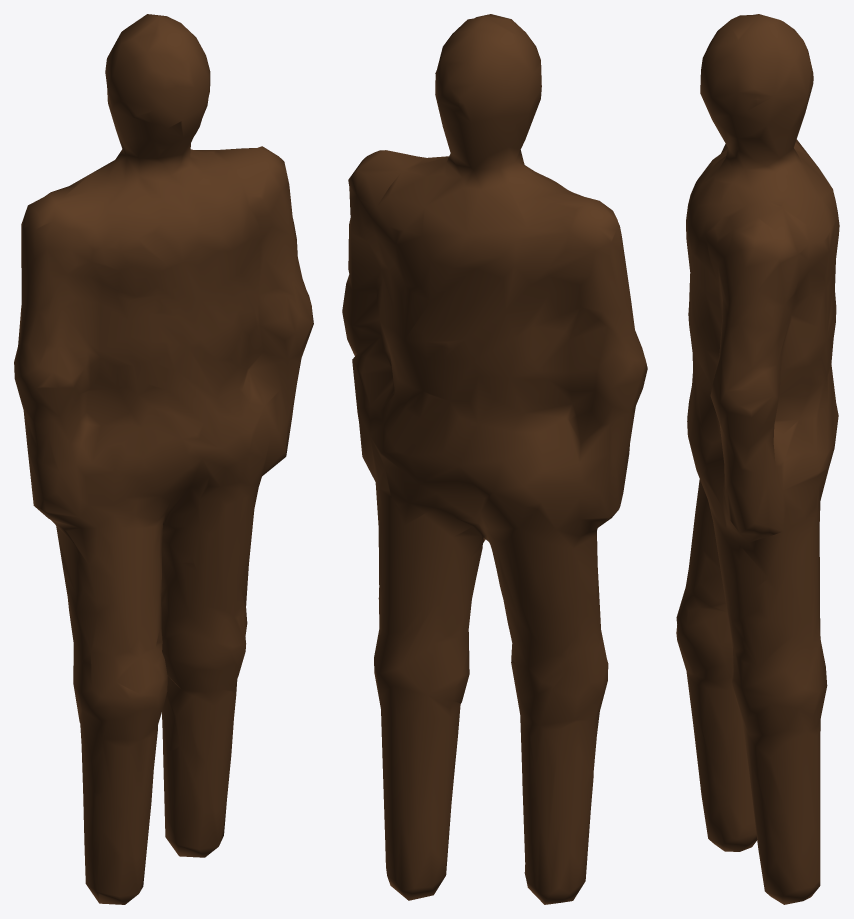
Rendered from sdf_person.obj.
3 renders of one model, left to right at view 1: azimuth 30°, elevation 25°; view 2: azimuth 150°, elevation 25°; view 3: azimuth 270°, elevation 25°, orthographic. The views are drawn at different scales.
Parts seen in each view (by area): view 1: sdf_person; view 2: sdf_person; view 3: sdf_person.
Part boxes in pixels (x1=…): sdf_person: x1=14, y1=14, x2=313, y2=904; sdf_person: x1=342, y1=14, x2=647, y2=904; sdf_person: x1=676, y1=14, x2=839, y2=904.
Bounding box in the file's own units: 0.5925 × 1.68 × 0.288.
